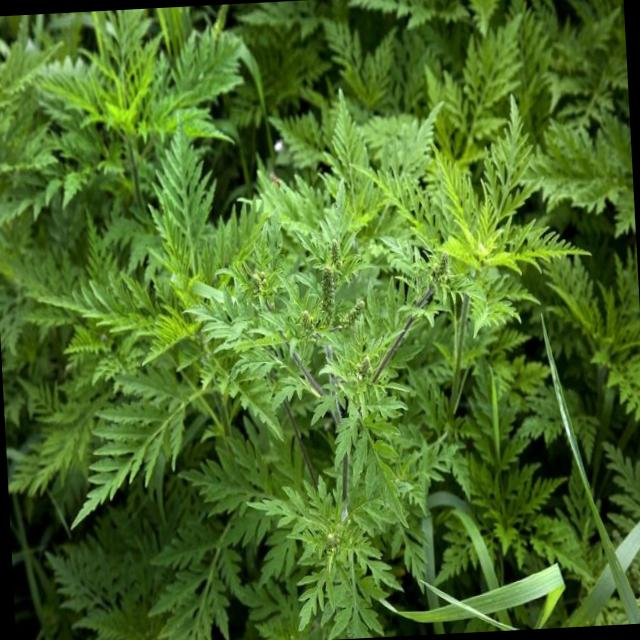ambrosia: (40, 240, 326, 481), (4, 11, 302, 236), (228, 210, 441, 510), (407, 112, 592, 354), (255, 448, 403, 640)
